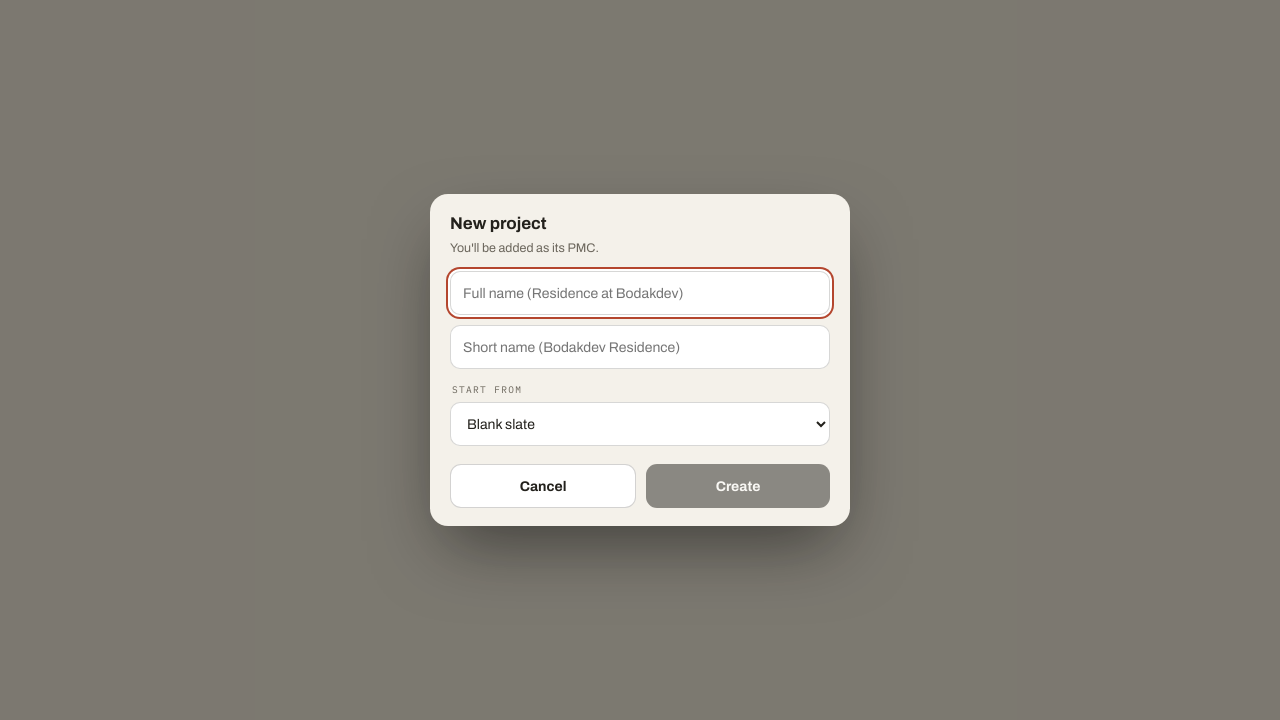
Test case: create project from a source the server refuses to copy › a same-named project appearing meanwhile is NOT taken as this create — it may be another tab’s or admin’s
Type "Residence at Thaltej" into the field with placeholder "Full name (Residence at Bodakdev)" at (640, 293), box [450,271,830,315]
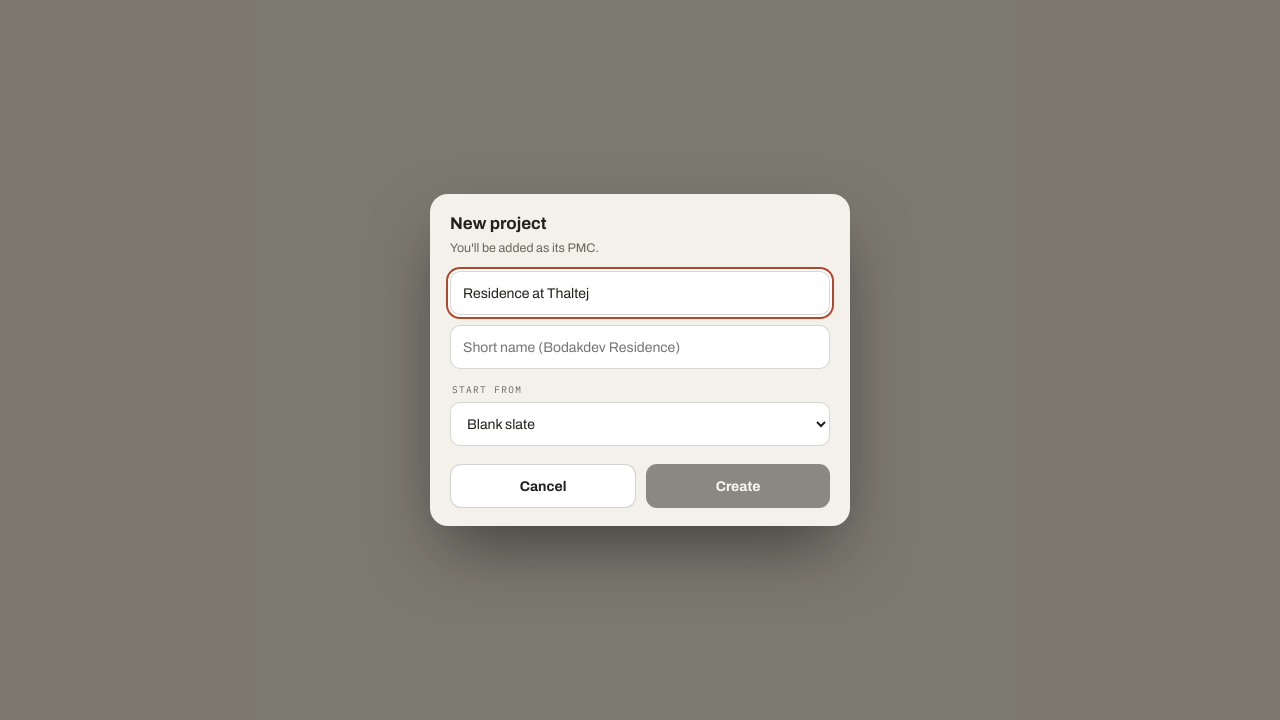
Type "Thaltej" into the field with placeholder "Short name (Bodakdev Residence)" at (640, 347), box [450,325,830,369]
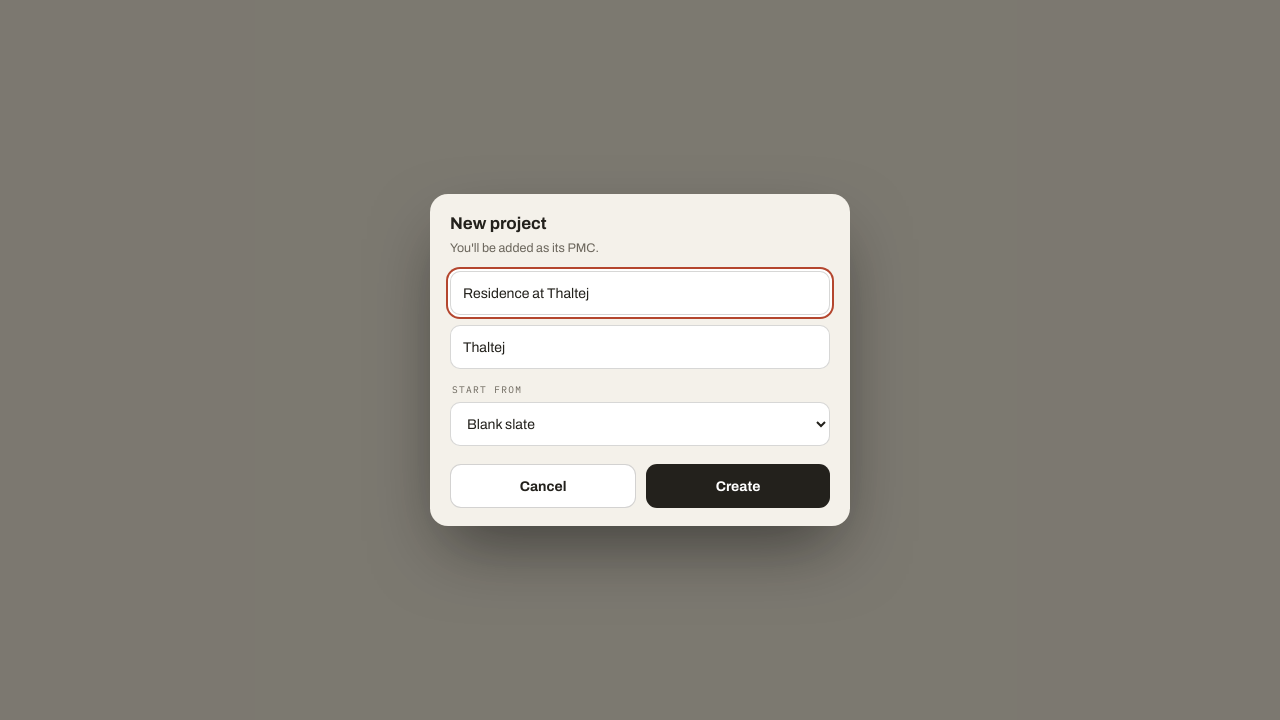
Select "Legacy" in the dropdown with test id "np-structure-from" at (640, 424), box [450,402,830,446]
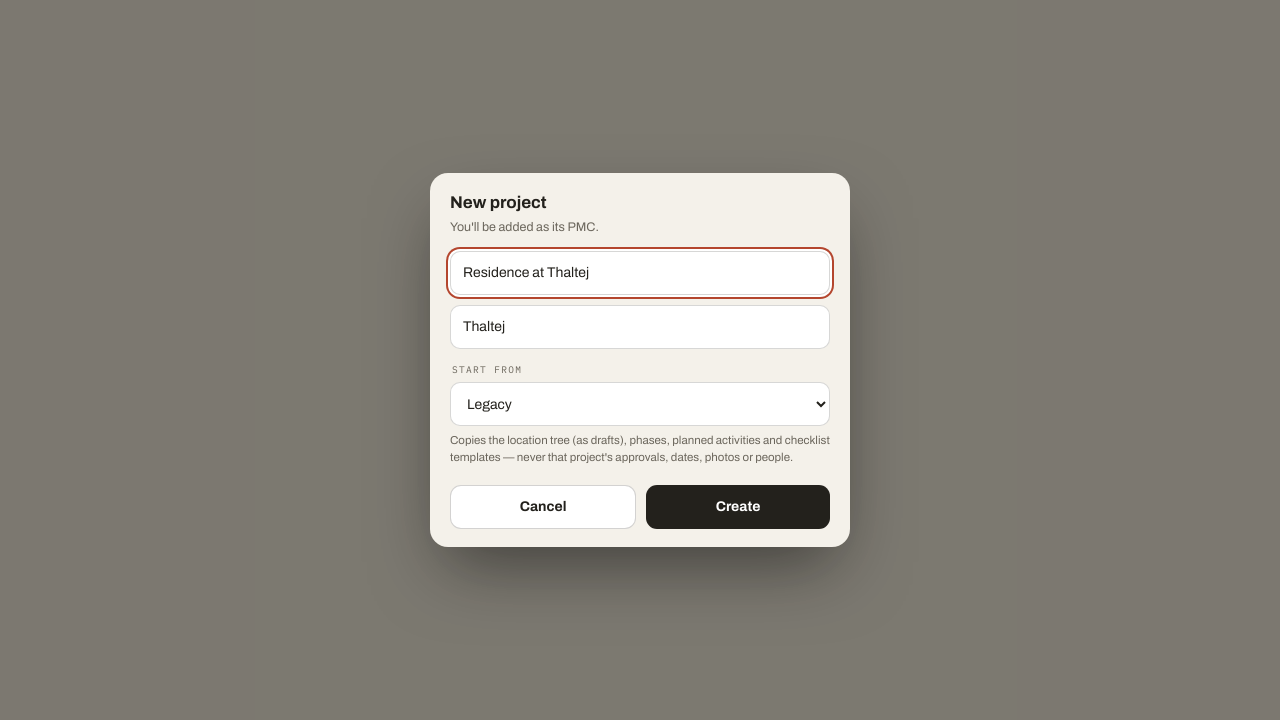
Click the button "Create" at (738, 506), box [646,484,830,528]
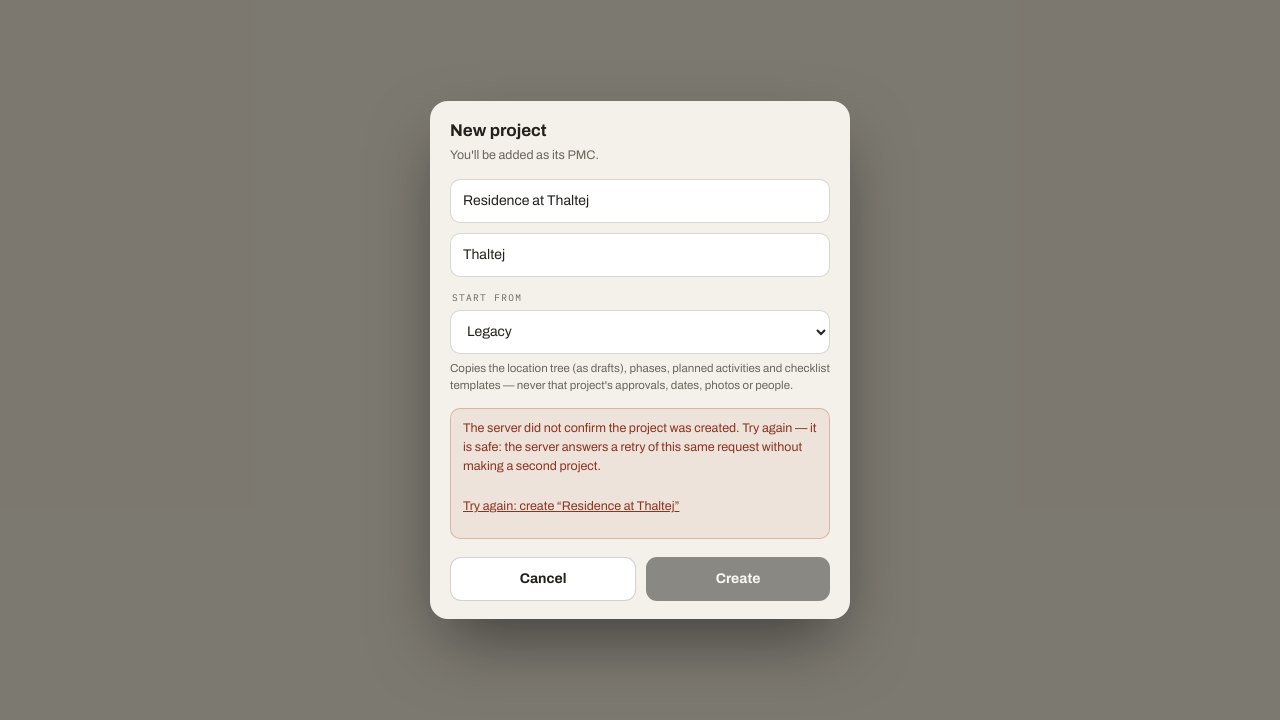
Check: the message shows "did not confirm", box [463,421,817,473]
Check: the button "Create" is disabled, box [646,557,830,601]
